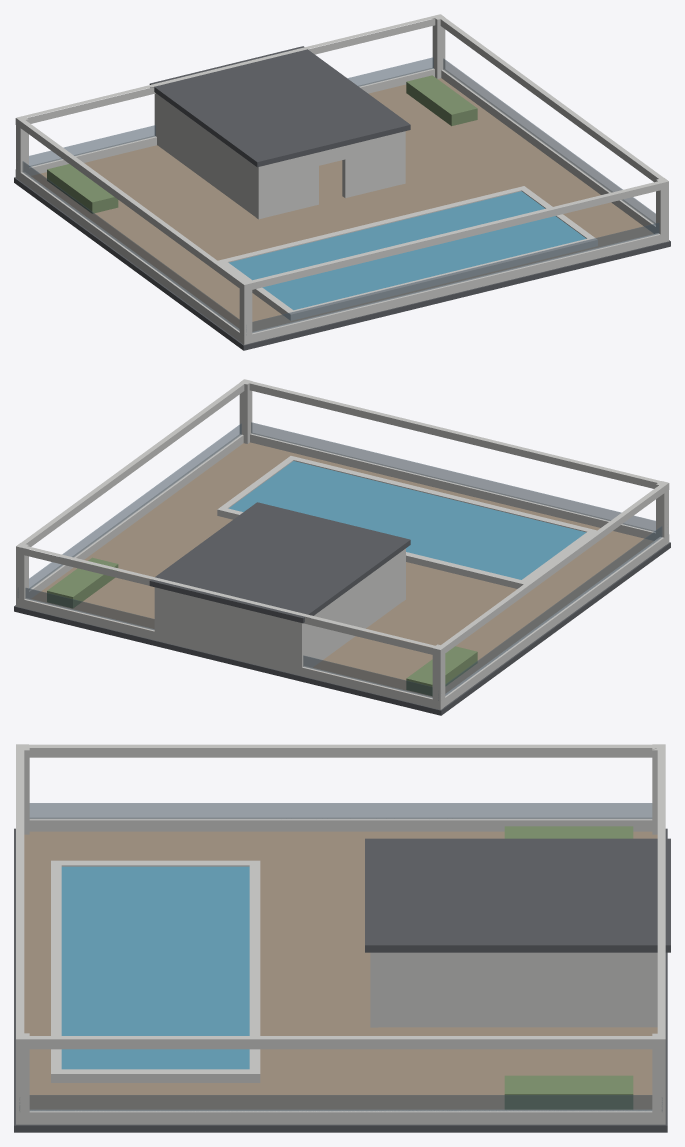
Rendered from condo-roof-b.zfix-v2.lod1.glb.
3 views of the same model, one above another, from view 1: azimuth 30°, elevation 25°; view 2: azimuth 150°, elevation 25°; view 3: azimuth 270°, elevation 25° (orthographic). The views are drawn at different scales.
Visible parts, largest first — view 1: condo-roof-b; view 2: condo-roof-b; view 3: condo-roof-b.
Part boxes in pixels (x1,y1,x2,y2): condo-roof-b: (14, 14, 670, 350); condo-roof-b: (14, 379, 670, 715); condo-roof-b: (14, 744, 670, 1132).
Size of the model in its own units: 26.16 by 3.83 by 24.48.
